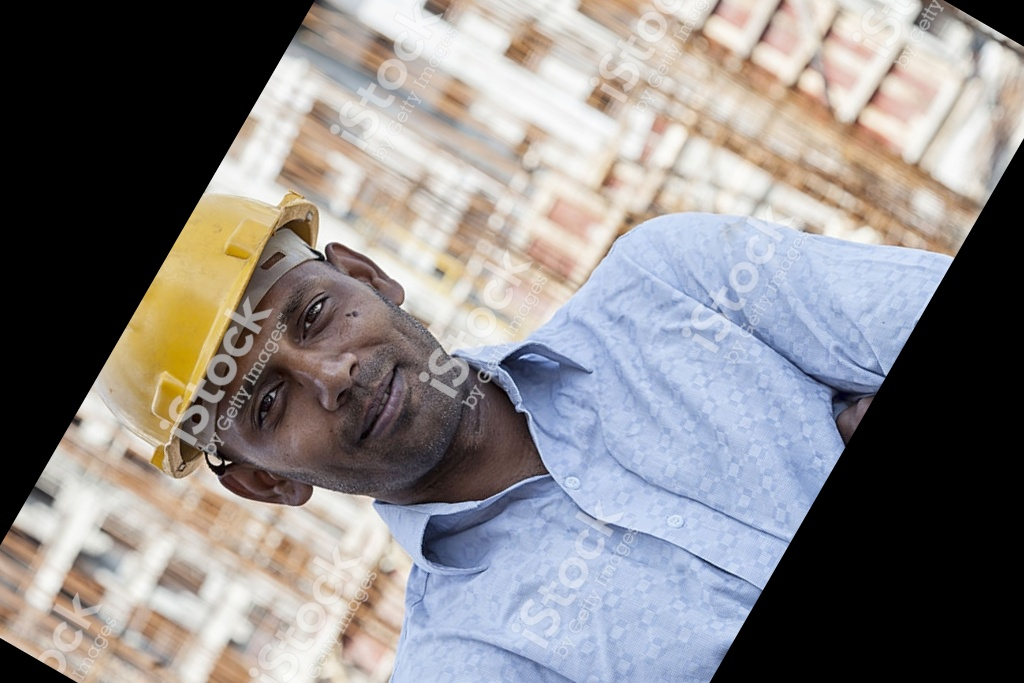NoJacket: (132, 199, 765, 683)
